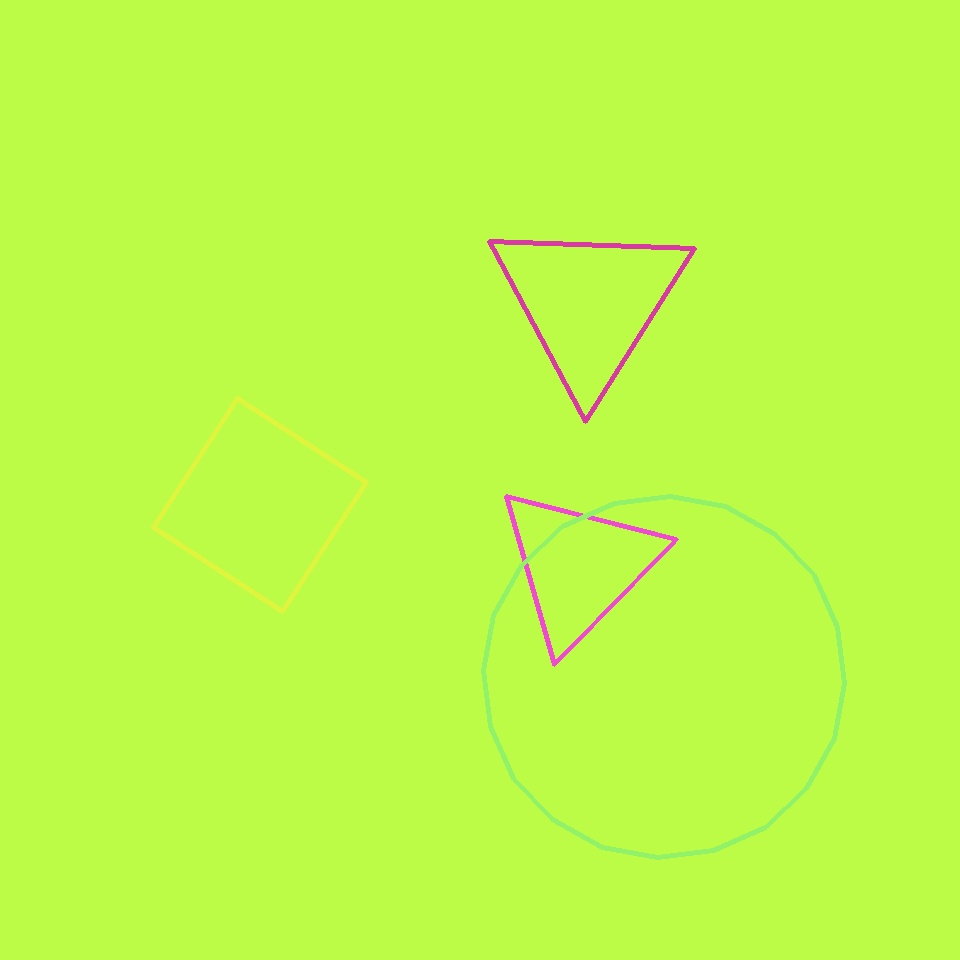circle: (488, 214, 693, 394), (494, 483, 664, 651)
square: (154, 398, 366, 612)
triangle: (484, 496, 844, 858)
